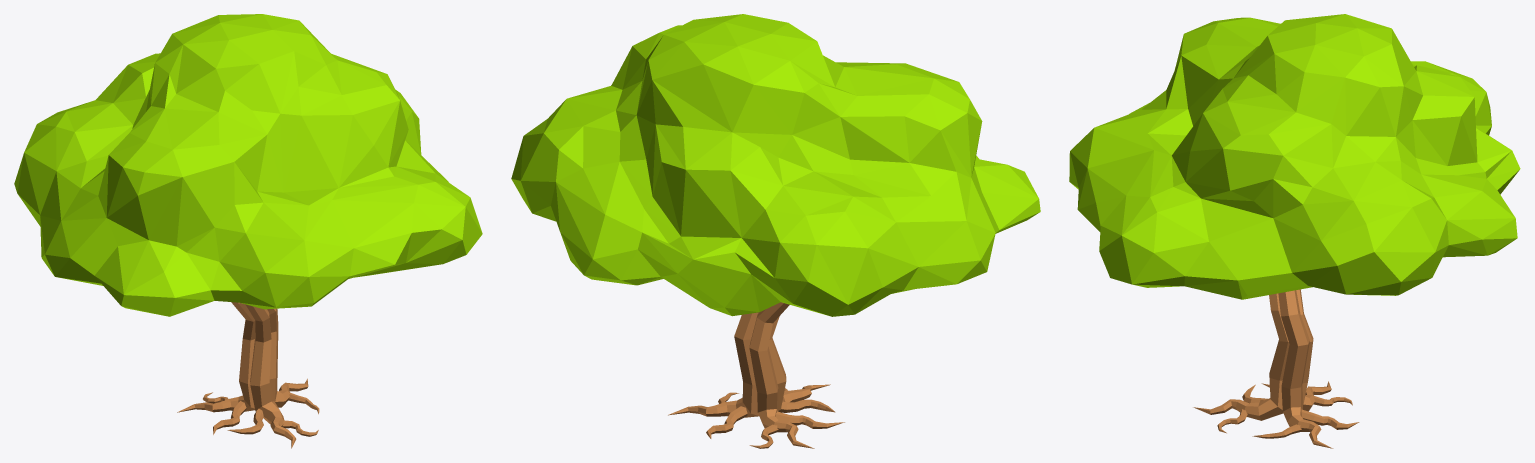
The model's file is Tree_7.fbx.
3 renders of one model, left to right at view 1: azimuth 30°, elevation 25°; view 2: azimuth 150°, elevation 25°; view 3: azimuth 270°, elevation 25°, orthographic. The views are drawn at different scales.
Parts seen in each view (by area): view 1: tree_7; view 2: tree_7; view 3: tree_7.
Part boxes in pixels (bbox=[...]): tree_7: bbox=[14, 14, 482, 448]; tree_7: bbox=[511, 14, 1040, 448]; tree_7: bbox=[1069, 14, 1520, 448].
Bounding box in the file's own units: 660 × 602 × 635.
